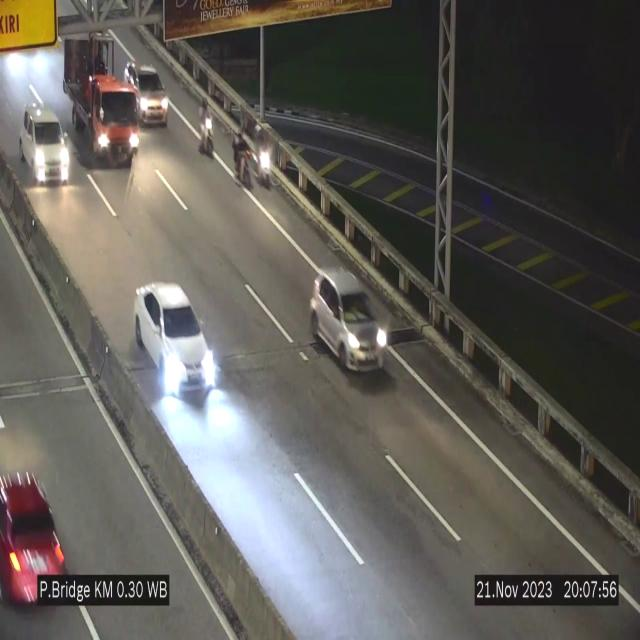Car: (0, 450, 78, 613), (135, 284, 217, 398), (310, 268, 386, 372), (15, 101, 73, 192), (124, 59, 168, 124)
Motorcycle: (233, 129, 255, 196), (196, 95, 216, 164), (257, 124, 273, 198)
Truck: (64, 34, 140, 166)
